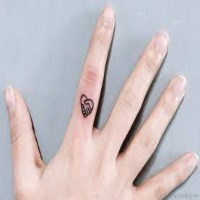ring: (115, 75, 198, 177)
